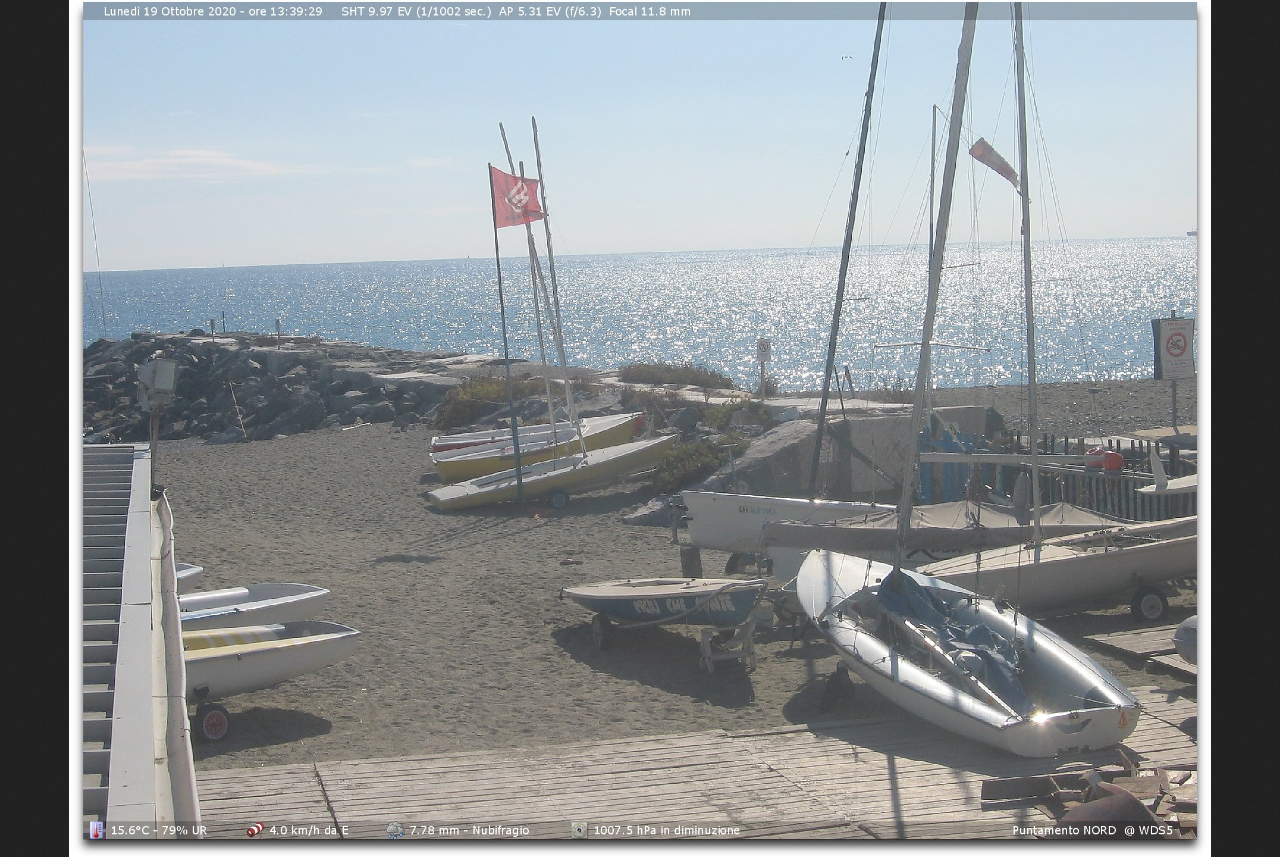yes: (482, 155, 552, 234)
